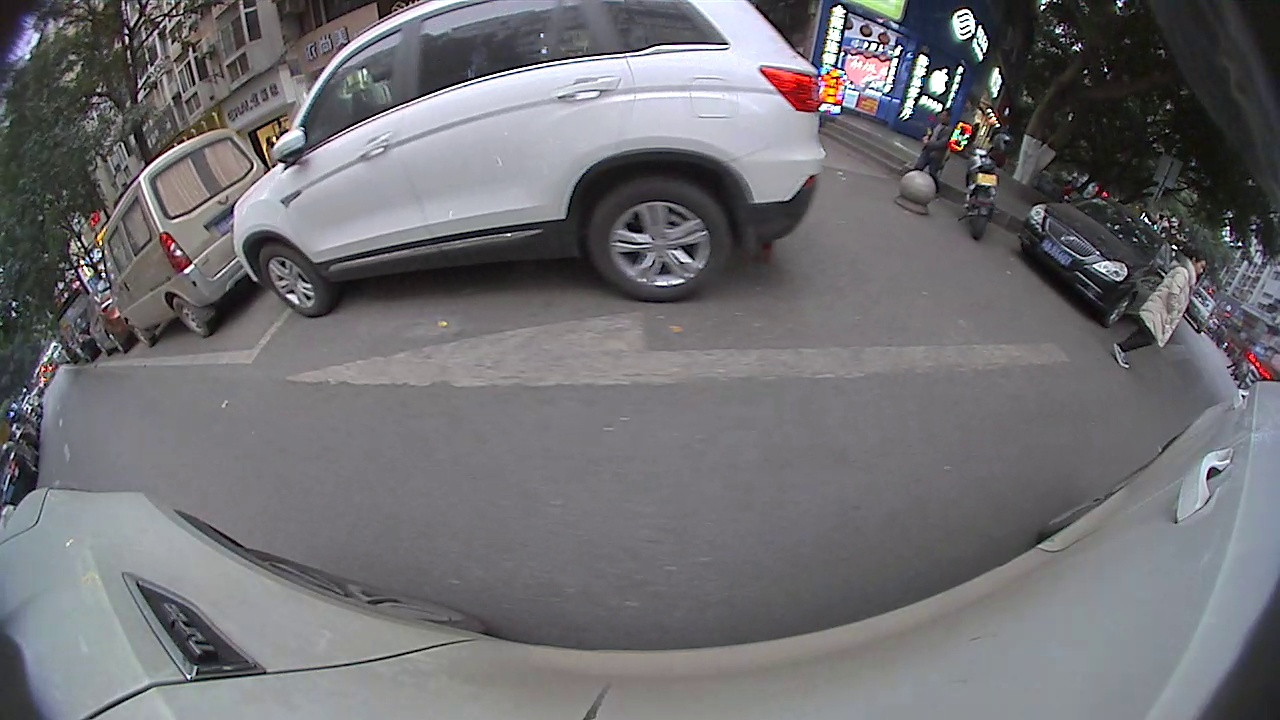car: (227, 2, 829, 321), (97, 124, 279, 349), (1019, 192, 1179, 330)
front: (254, 245, 335, 318), (1102, 291, 1134, 330)
person: (1166, 249, 1213, 326)
rear: (592, 182, 733, 305), (165, 298, 214, 338)
rider: (958, 127, 1005, 242)
